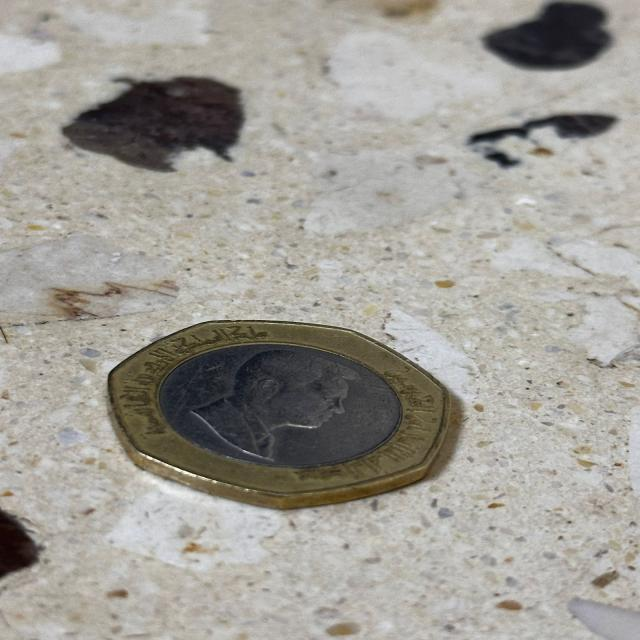50-coins: (106, 319, 451, 509)
